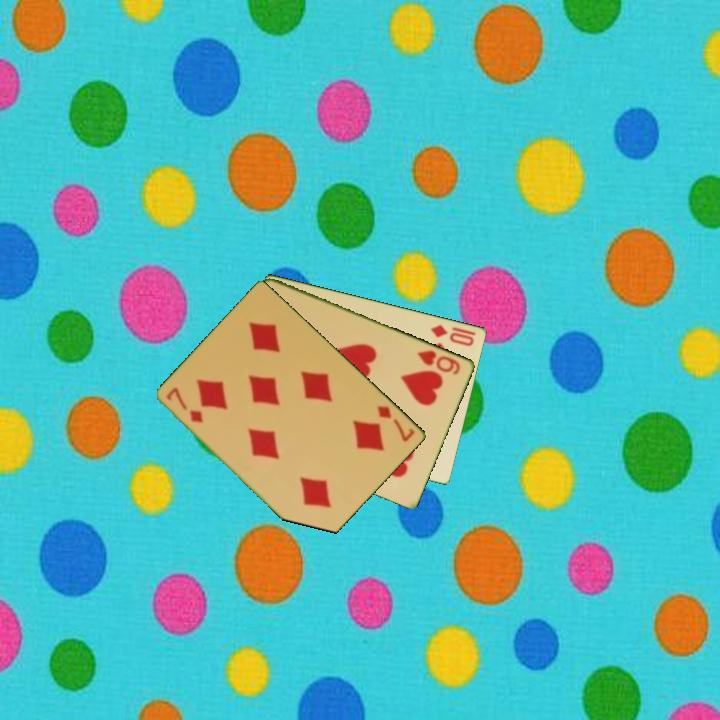10d: (427, 321, 477, 349)
6h: (414, 346, 464, 377)
7d: (373, 402, 418, 445), (163, 384, 206, 426)
